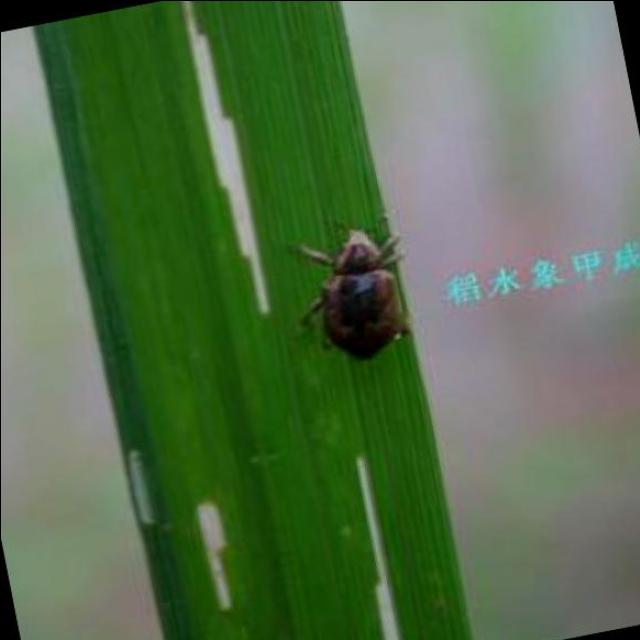ricebug: (289, 228, 410, 358)
